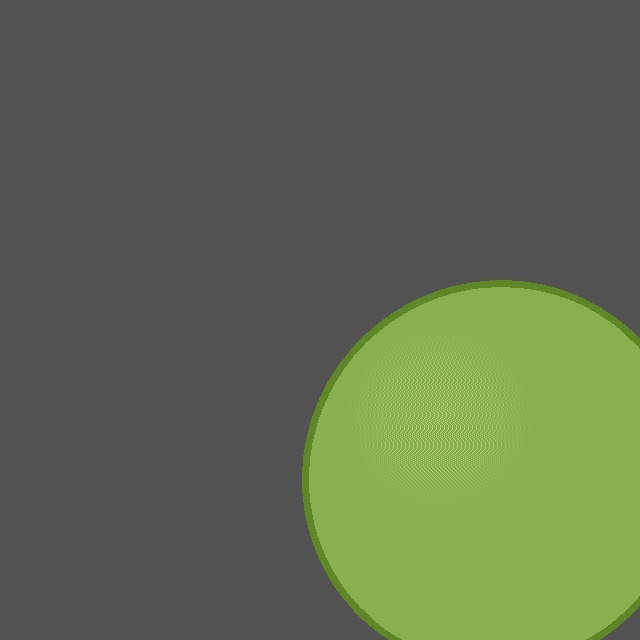lens: (305, 283, 640, 640)
